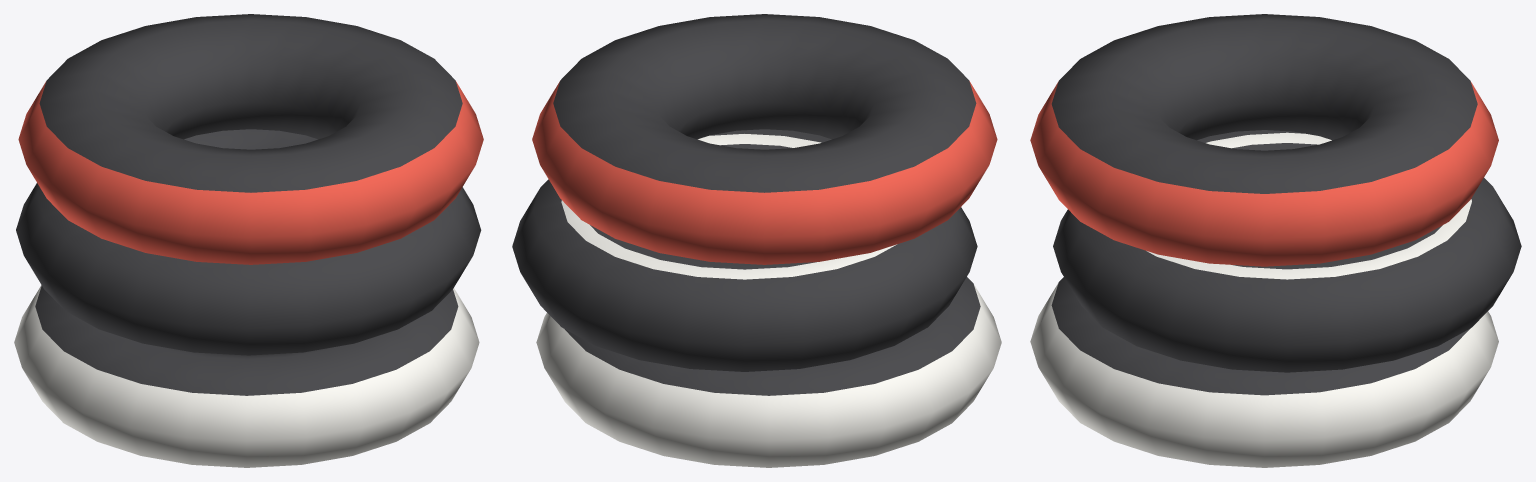
File: tyre_stack.glb
3 renders of one model, left to right at view 1: azimuth 30°, elevation 25°; view 2: azimuth 150°, elevation 25°; view 3: azimuth 270°, elevation 25°, orthographic.
Parts seen in each view (by area): view 1: tyre_stack; view 2: tyre_stack; view 3: tyre_stack.
Part boxes in pixels (bbox=[...]): tyre_stack: bbox=[14, 14, 483, 467]; tyre_stack: bbox=[512, 14, 1001, 467]; tyre_stack: bbox=[1030, 14, 1521, 467].
Bounding box in the file's own units: 0.7328 × 0.5116 × 0.7443.
